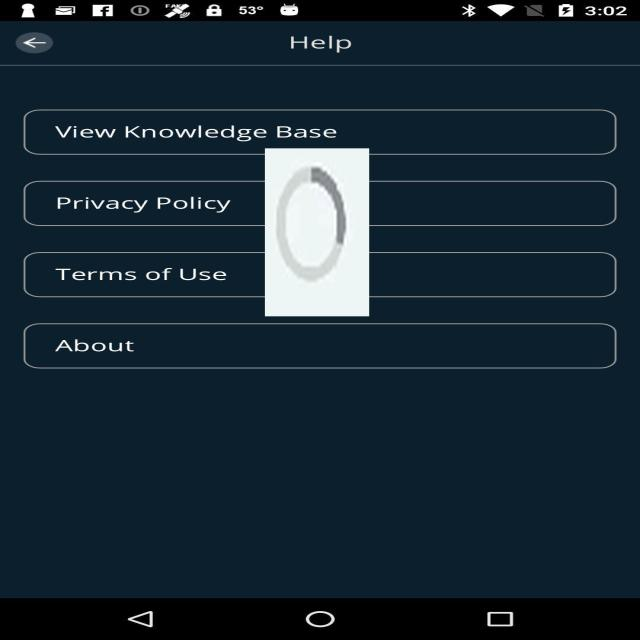misdirection: (265, 148, 369, 316)
